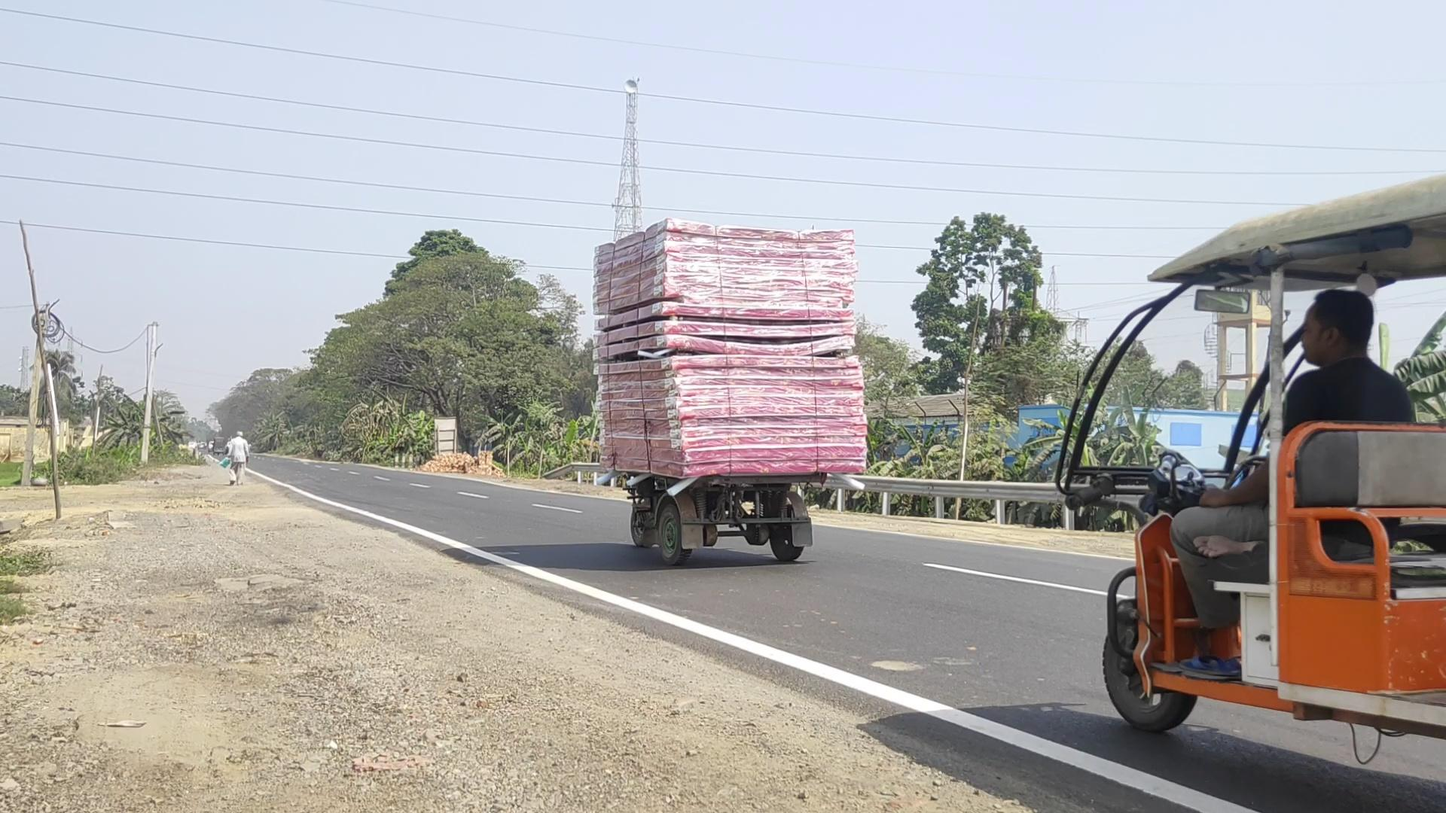Auto: (1054, 173, 1446, 793)
